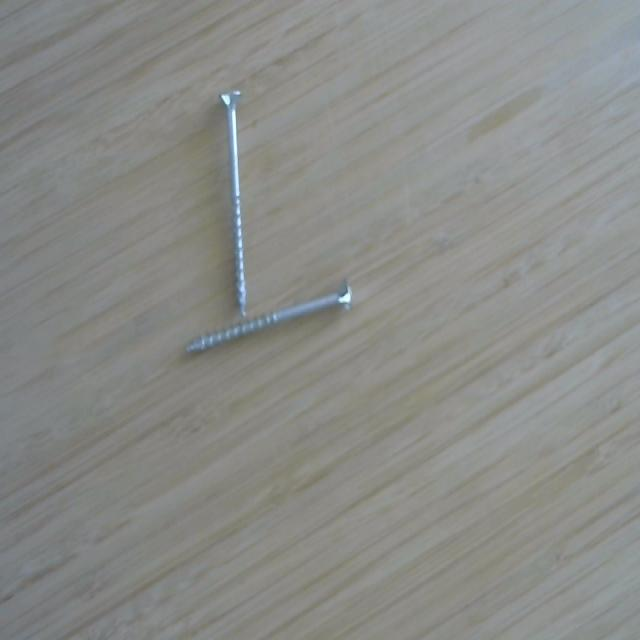Long screw: (180, 272, 358, 364), (216, 88, 251, 318)
